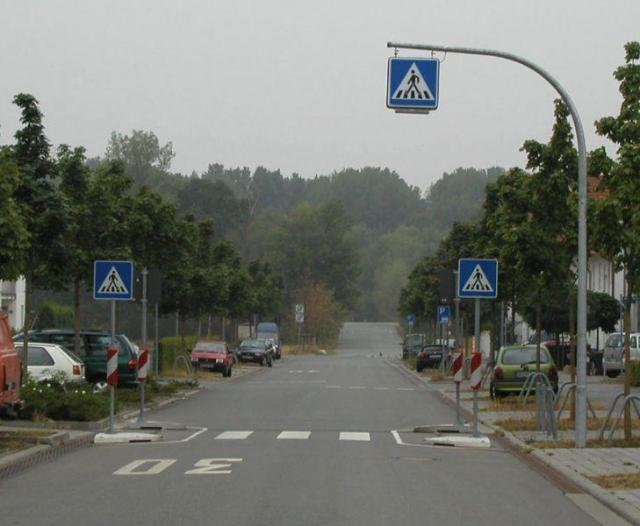crosswalk-sign: (387, 57, 441, 111), (91, 261, 137, 305), (461, 257, 500, 301)
